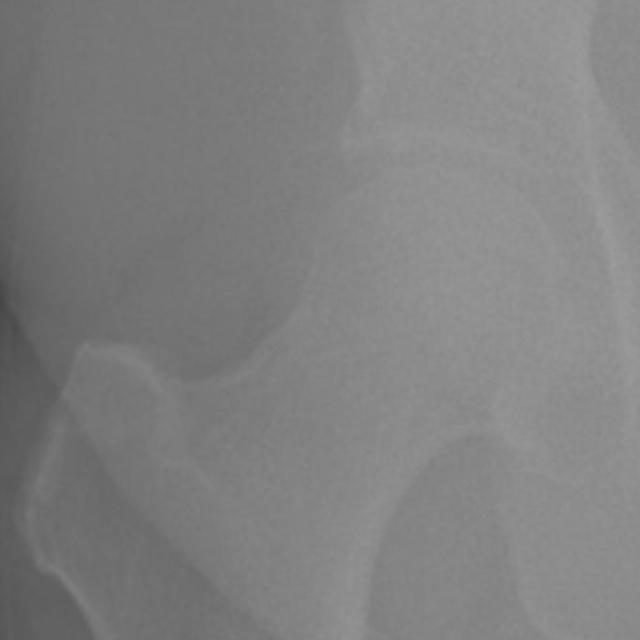Fitted_femural_head: (287, 166, 432, 287)
